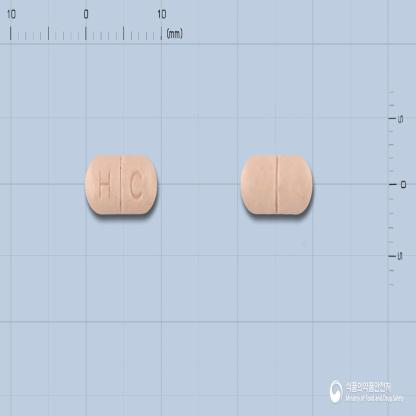pill: (84, 152, 158, 215), (239, 154, 314, 215)
